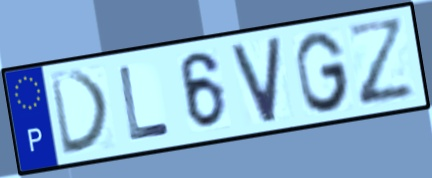6: (177, 50, 229, 133)
D: (47, 68, 114, 159)
G: (293, 29, 353, 115)
L: (116, 63, 173, 143)
V: (228, 33, 284, 127)
Z: (343, 15, 419, 111)
